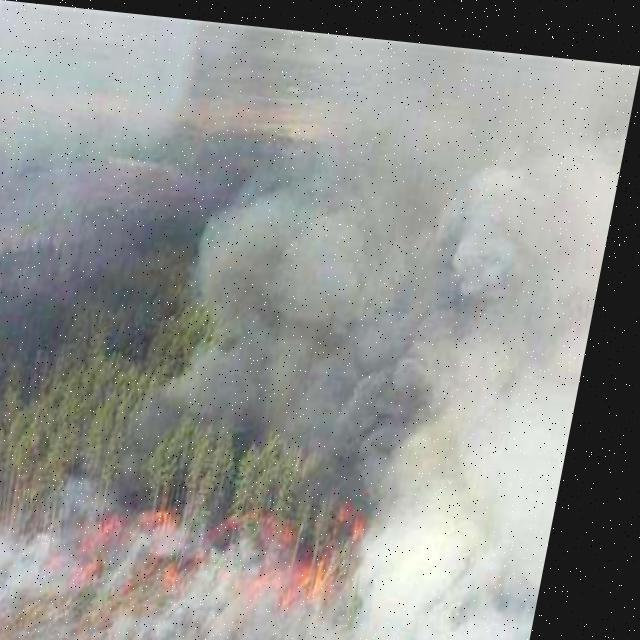Fire: (61, 469, 396, 633)
